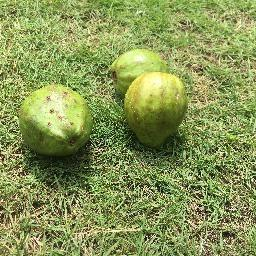guava: (18, 81, 95, 157), (122, 70, 188, 148), (110, 45, 169, 97)
